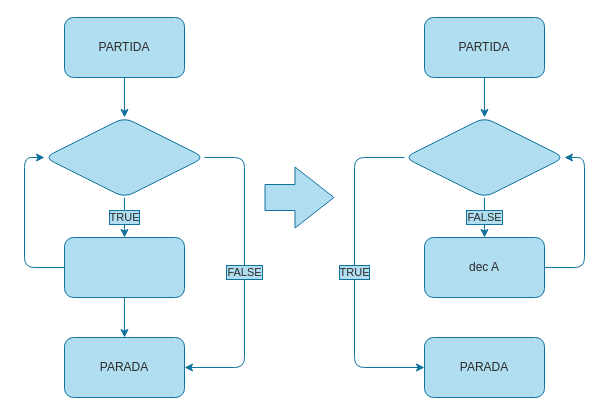
Image size: 610x415. Some labels were removed from this diagram. Each missing label, with the centre of its shape:
A = A - 1: point 124,267
while (A != 0): point 124,157
zero A: point 484,157
